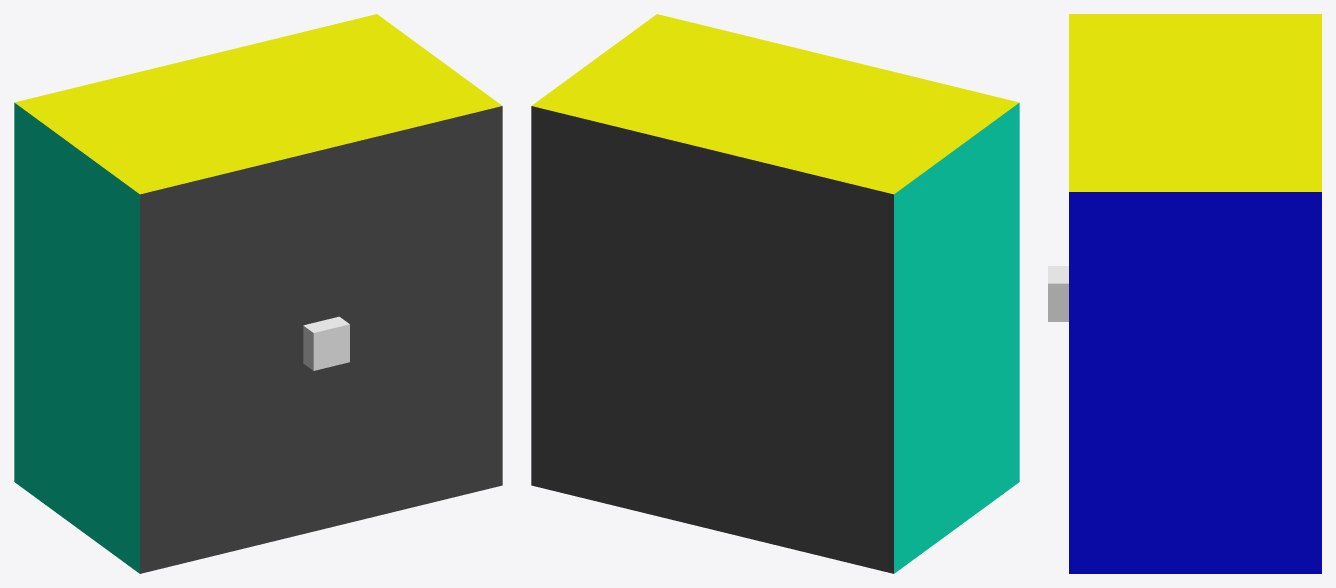
The model's file is triangles.obj.
The picture shows the model from 3 angles, left to right: view 1: azimuth 30°, elevation 25°; view 2: azimuth 150°, elevation 25°; view 3: azimuth 270°, elevation 25°; orthographic projection.
Visible parts, largest first — view 1: Plane.005_Plane.007, Plane, Plane.001, Cube_Cube.001; view 2: Plane.005_Plane.001, Plane, Plane.001; view 3: Plane.002, Plane.001, Cube_Cube.001.
Boxes of the visible parts, x1,y1,x2,y2 form: Plane.005_Plane.007: (140, 106, 502, 573); Plane: (14, 103, 139, 573); Plane.001: (14, 14, 501, 194); Cube_Cube.001: (303, 316, 349, 370); Plane.005_Plane.001: (531, 106, 893, 573); Plane: (894, 103, 1019, 573); Plane.001: (532, 14, 1019, 194); Plane.002: (1069, 192, 1321, 573); Plane.001: (1069, 14, 1321, 191); Cube_Cube.001: (1048, 266, 1068, 321).
Bounding box in the file's own units: 20 × 20 × 13.
